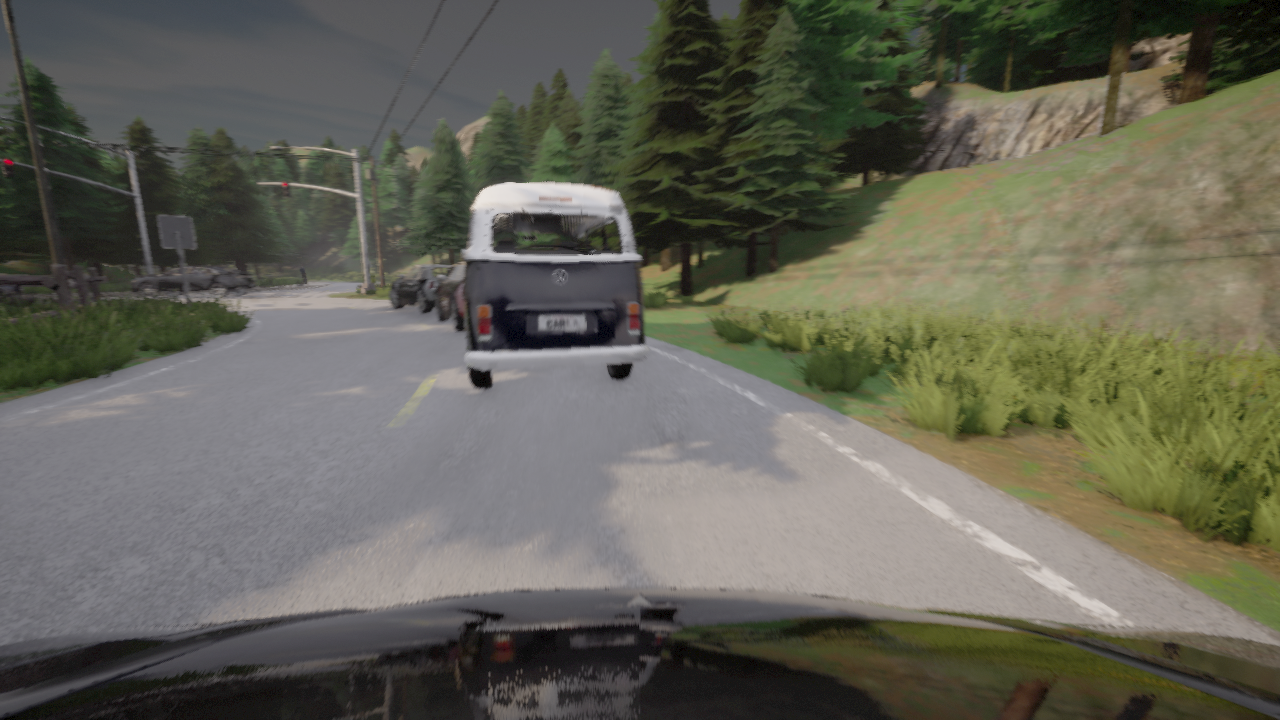cyclist: (0, 588, 1279, 719), (462, 184, 647, 389), (131, 266, 256, 298), (389, 265, 455, 313), (435, 262, 464, 331), (0, 285, 22, 298)
pedestrian: (299, 265, 306, 285)
